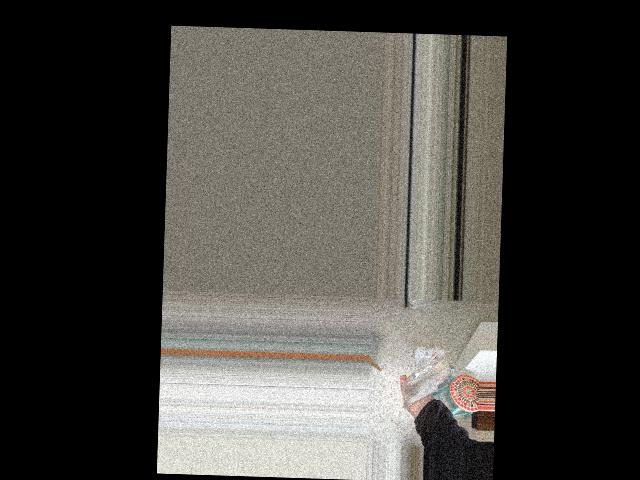cheese: (395, 340, 473, 414)
